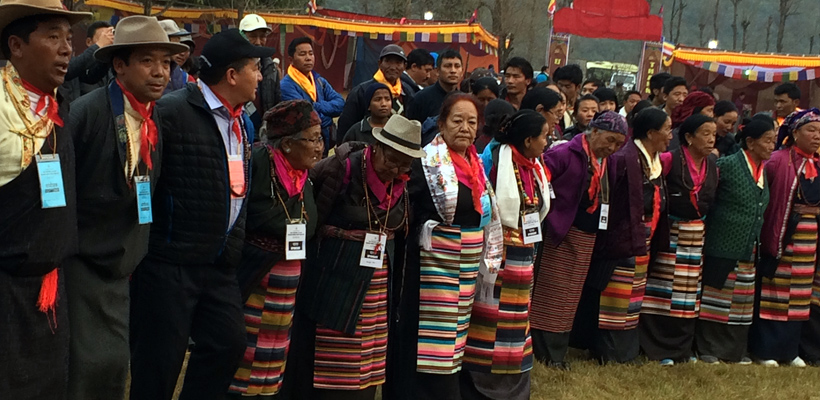human: (50, 10, 187, 400), (169, 29, 283, 400), (205, 97, 338, 400), (293, 110, 431, 400), (1, 1, 98, 400), (497, 103, 632, 384), (384, 81, 496, 400), (470, 101, 557, 400), (689, 110, 781, 379), (632, 108, 723, 376), (587, 101, 678, 368), (758, 102, 820, 373), (275, 34, 347, 140)
